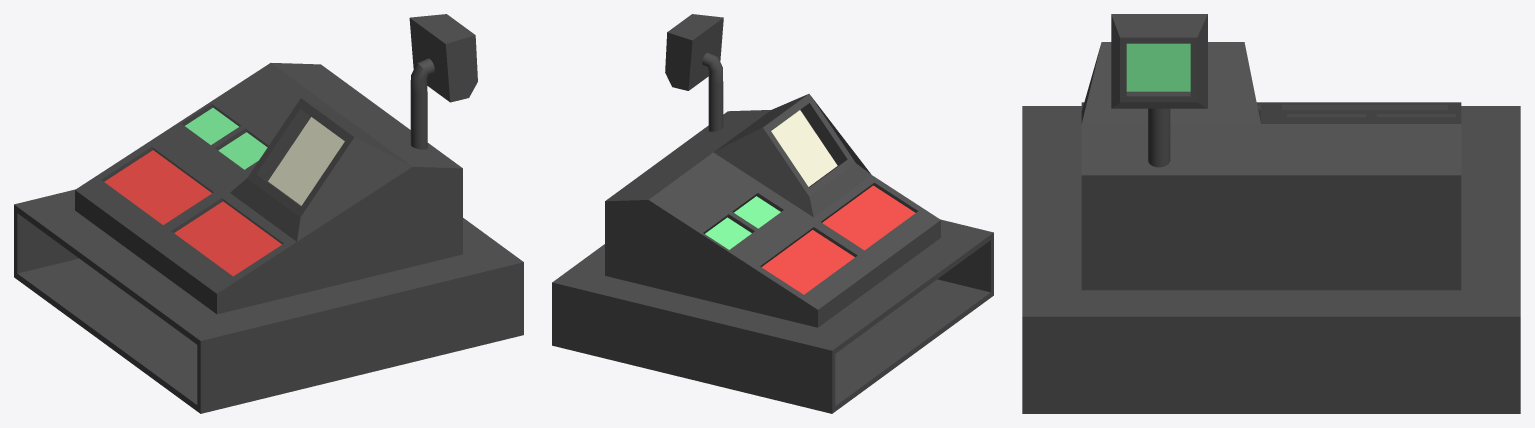
Rendered from Props_Cashier.fbx.
The picture shows the model from 3 angles, left to right: view 1: azimuth 30°, elevation 25°; view 2: azimuth 150°, elevation 25°; view 3: azimuth 270°, elevation 25°; orthographic projection. The views are drawn at different scales.
Parts seen in each view (by area): view 1: Props_Cashier; view 2: Props_Cashier; view 3: Props_Cashier.
Part boxes in pixels (bbox=[...]): Props_Cashier: bbox=[14, 14, 523, 413]; Props_Cashier: bbox=[552, 14, 993, 413]; Props_Cashier: bbox=[1022, 14, 1520, 413].
Bounding box in the file's own units: 43.9 × 36.02 × 43.9.
